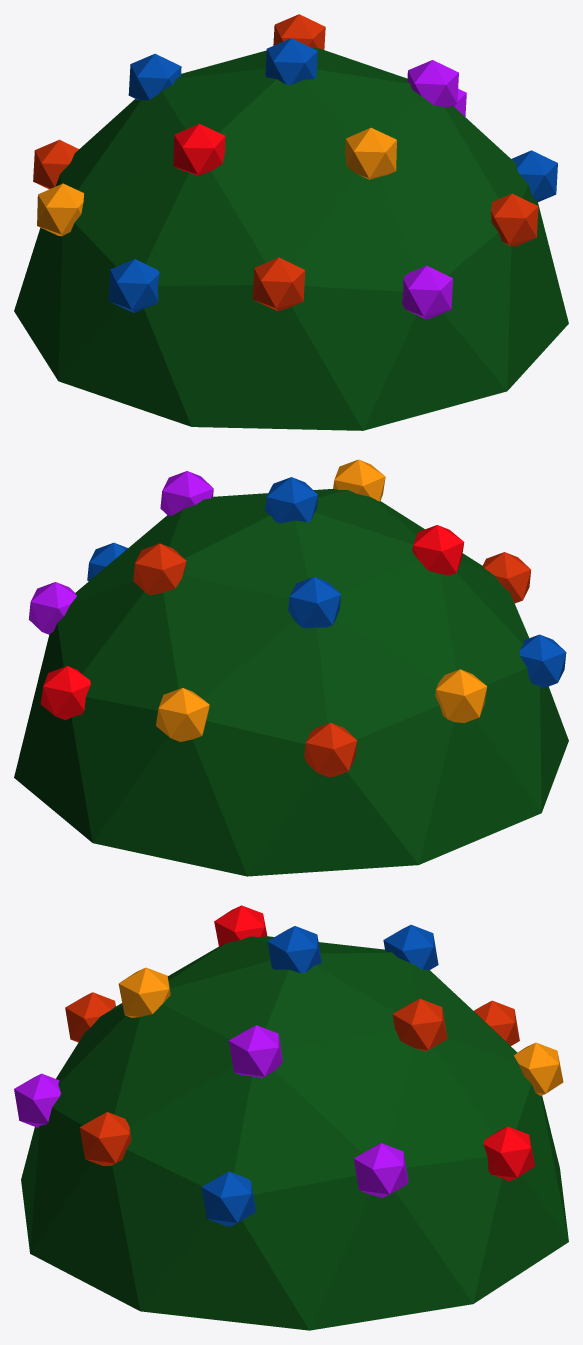
File: BushFruits.obj
3 renders of one model, top to bottom at view 1: azimuth 30°, elevation 25°; view 2: azimuth 150°, elevation 25°; view 3: azimuth 270°, elevation 25°, orthographic. The views are drawn at different scales.
Parts seen in each view (by area): view 1: BushFruits_Icosphere.011; view 2: BushFruits_Icosphere.011; view 3: BushFruits_Icosphere.011.
Part boxes in pixels (x1,y1,x2,y2): BushFruits_Icosphere.011: (14, 14, 568, 430); BushFruits_Icosphere.011: (14, 459, 568, 876); BushFruits_Icosphere.011: (14, 905, 568, 1330).
Size of the model in its own units: 6.05 by 3.36 by 5.92.
